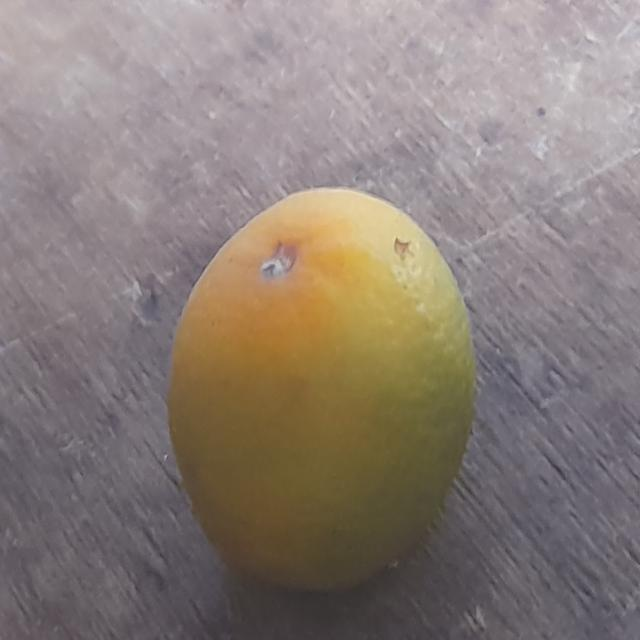greening: (165, 187, 487, 595)
